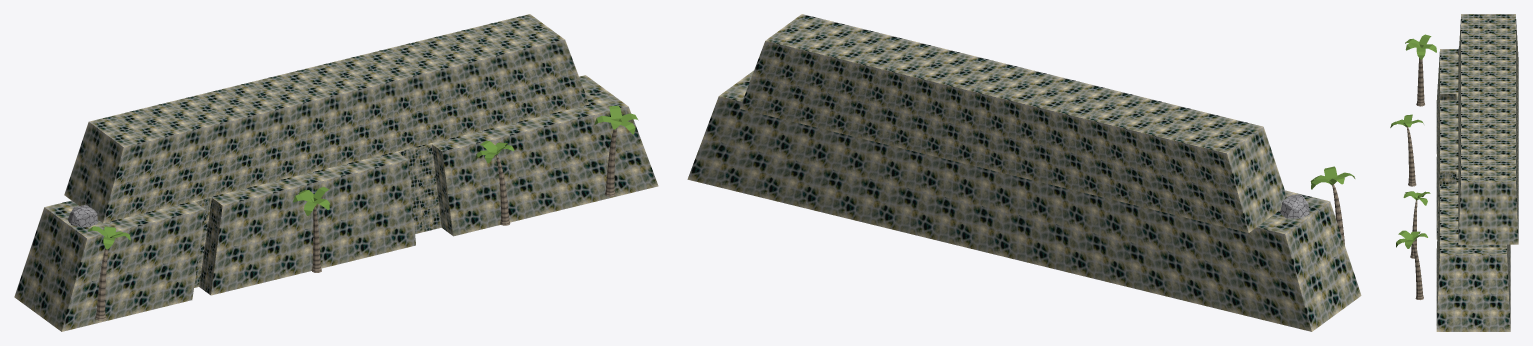
File: temple.glb
The picture shows the model from 3 angles, left to right: view 1: azimuth 30°, elevation 25°; view 2: azimuth 150°, elevation 25°; view 3: azimuth 270°, elevation 25°; orthographic projection. The views are drawn at different scales.
Visible parts, largest first — view 1: Temple, PalmTree.001, PalmTree.002, PalmTree, PalmTree.003, Rock3; view 2: Temple, PalmTree, Rock3; view 3: Temple, PalmTree, PalmTree.001, PalmTree.002, PalmTree.003.
Part boxes in pixels (x1,y1,x2,y2): Temple: (14, 14, 658, 331); PalmTree.001: (594, 105, 638, 196); PalmTree.002: (293, 186, 329, 272); PalmTree: (88, 226, 130, 320); PalmTree.003: (475, 140, 514, 225); Rock3: (67, 204, 97, 227); Temple: (687, 14, 1361, 331); PalmTree: (1310, 166, 1355, 244); Rock3: (1280, 194, 1309, 218); Temple: (1436, 14, 1518, 331); PalmTree: (1405, 34, 1436, 106); PalmTree.001: (1396, 230, 1427, 299); PalmTree.002: (1390, 114, 1423, 186); PalmTree.003: (1403, 191, 1430, 258).
Size of the model in its own units: 88.21 by 21.76 by 21.04.
Materials: 4 (3 with a texture image).
